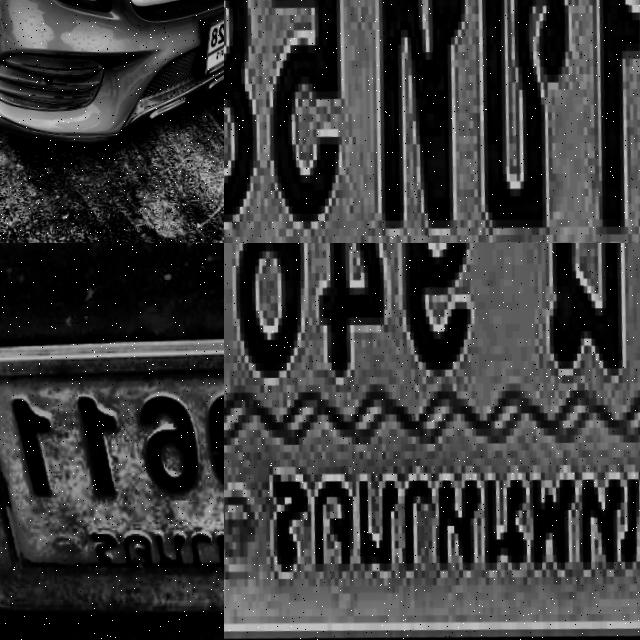license-plate: (224, 243, 640, 640), (224, 0, 640, 243), (0, 307, 224, 640), (182, 0, 224, 97)
